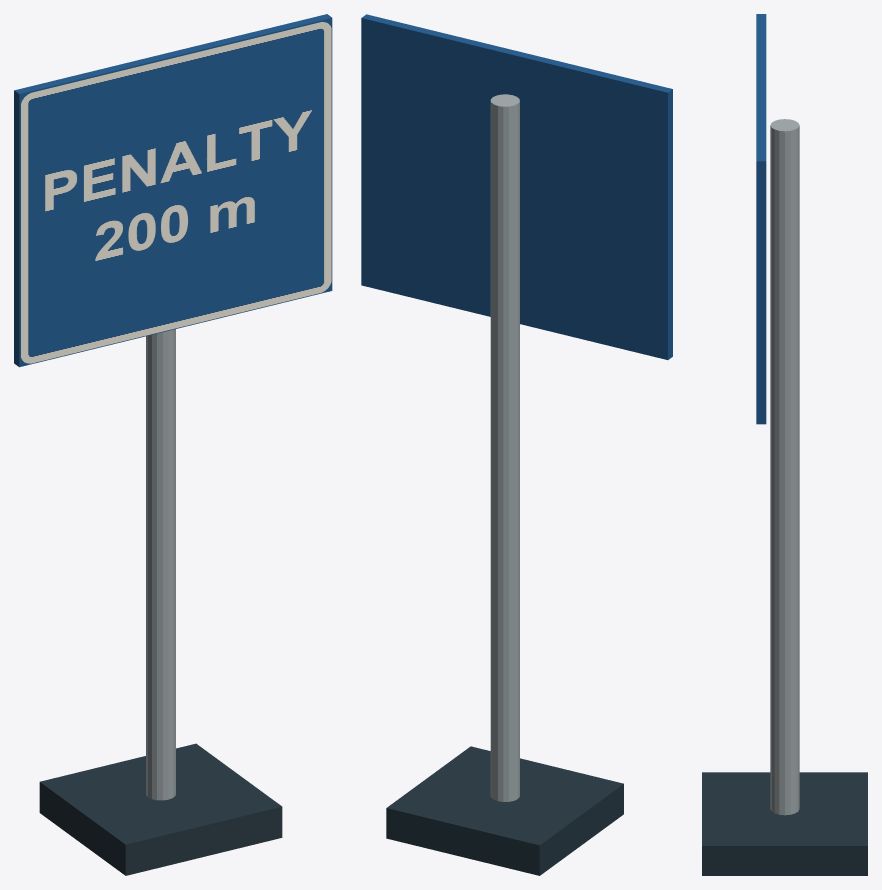
File: scendance-plan-penalty-box-200m.glb
The picture shows the model from 3 angles, left to right: view 1: azimuth 30°, elevation 25°; view 2: azimuth 150°, elevation 25°; view 3: azimuth 270°, elevation 25°; orthographic projection. The views are drawn at different scales.
Size of the model in its own units: 0.84 by 2 by 0.4.
Materials: 4 (1 with a texture image).
